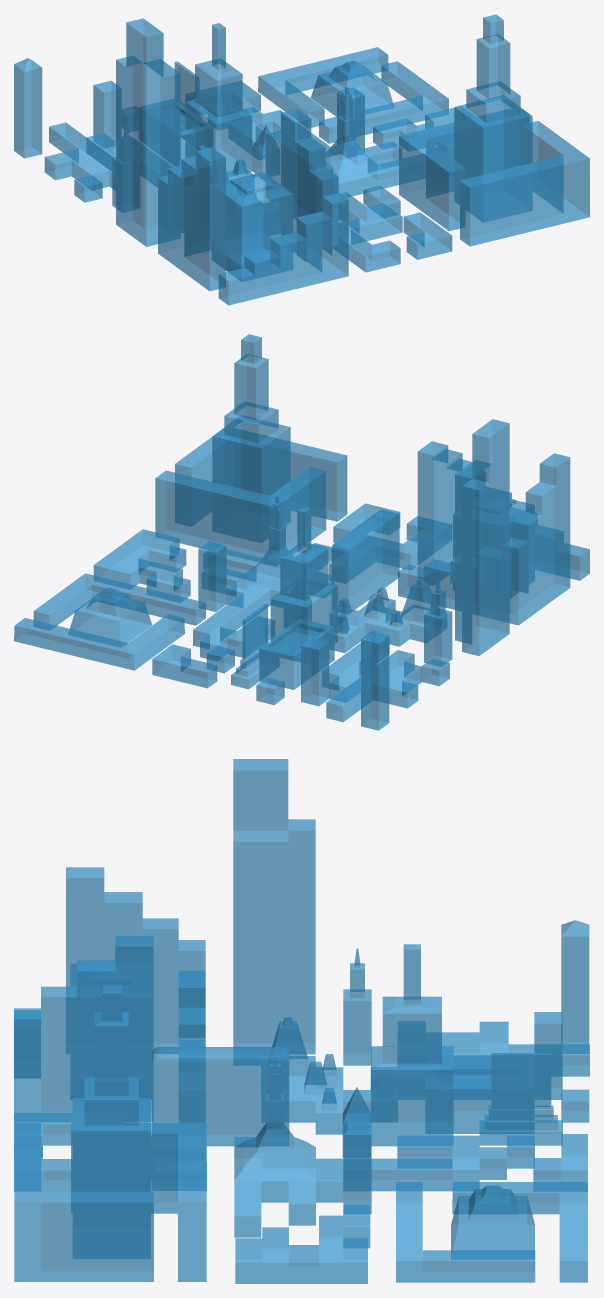
Rendered from QR code-05.gltf.
3 views of the same model, one above another, from view 1: azimuth 30°, elevation 25°; view 2: azimuth 150°, elevation 25°; view 3: azimuth 270°, elevation 25° (orthographic). The views are drawn at different scales.
Visible parts, largest first — view 1: Cube.006, Cube.030, Cube.024, Cube.001, Cube.004, Cube.005, Cube.010, Cube.026, Cube.015, Cube.011, Cube.008, Cube.025 (+16 smaller); view 2: Cube.006, Cube.004, Cube.024, Cube.001, Cube.010, Cube.005, Cube.030, Cube.027, Cube.026, Cube.011, Cube.003, Cube.008 (+16 smaller); view 3: Cube.006, Cube.024, Cube.030, Cube.010, Cube.001, Cube.004, Cube.011, Cube.005, Cube.026, Cube.027, Cube.003, Cube.025 (+15 smaller).
Boxes of the visible parts, x1,y1,x2,y2 form: Cube.006: [399, 109, 589, 246]; Cube.030: [218, 109, 348, 305]; Cube.024: [116, 18, 180, 246]; Cube.001: [454, 14, 532, 221]; Cube.004: [158, 147, 280, 291]; Cube.005: [258, 47, 448, 143]; Cube.010: [229, 87, 425, 197]; Cube.026: [185, 23, 252, 176]; Cube.015: [212, 172, 293, 271]; Cube.011: [265, 130, 333, 218]; Cube.008: [333, 192, 402, 272]; Cube.025: [139, 99, 213, 166]; Cube.006: [155, 428, 347, 565]; Cube.004: [398, 453, 570, 625]; Cube.024: [455, 419, 509, 655]; Cube.001: [212, 334, 290, 542]; Cube.010: [193, 495, 333, 660]; Cube.005: [14, 573, 205, 670]; Cube.030: [417, 441, 589, 585]; Cube.027: [322, 578, 446, 702]; Cube.026: [270, 506, 337, 662]; Cube.011: [331, 509, 399, 613]; Cube.003: [93, 529, 190, 602]; Cube.008: [328, 516, 451, 583]; Cube.006: [14, 1123, 206, 1281]; Cube.024: [233, 759, 315, 1064]; Cube.030: [14, 936, 153, 1122]; Cube.010: [234, 1055, 506, 1237]; Cube.001: [72, 984, 150, 1258]; Cube.004: [66, 867, 205, 1121]; Cube.011: [152, 1047, 289, 1146]; Cube.005: [396, 1182, 587, 1282]; Cube.026: [371, 944, 453, 1146]; Cube.027: [261, 1017, 491, 1134]; Cube.003: [235, 1204, 370, 1283]; Cube.025: [425, 1066, 534, 1133].
Bounding box in the file's own units: 21 × 11.5 × 21.15.
